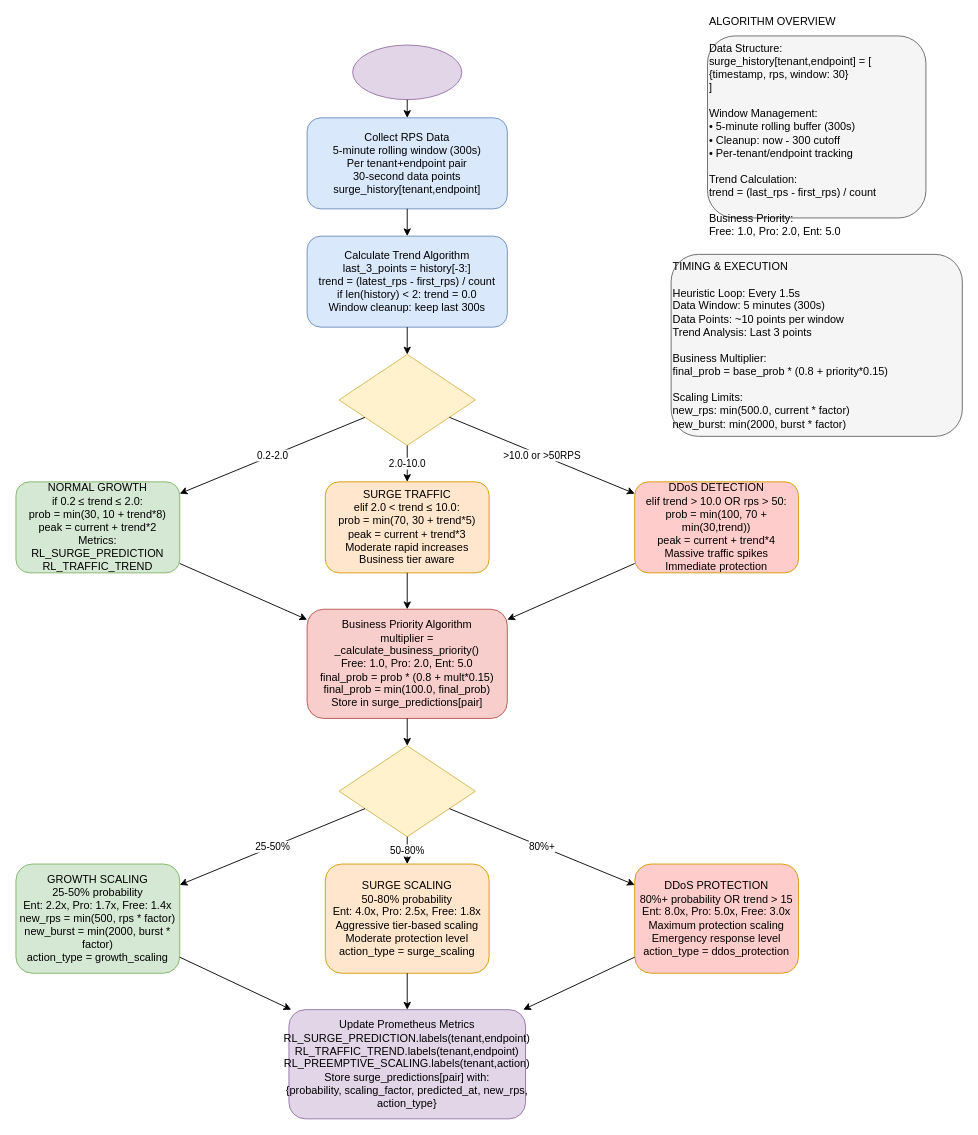
Image size: 978x1135. Some labels were removed from this diagram. The shapes that lost their labels are listed below. From the top down, each one's box as (x1, y1, x2, y2) in pixels, then its label:
(352, 44, 462, 100): Traffic Monitoring
(338, 354, 475, 445): Multi-Level Classification Based on trend value
(338, 745, 475, 837): Preemptive Scaling Decision if surge_prob < 25: no action return scaling_factor
